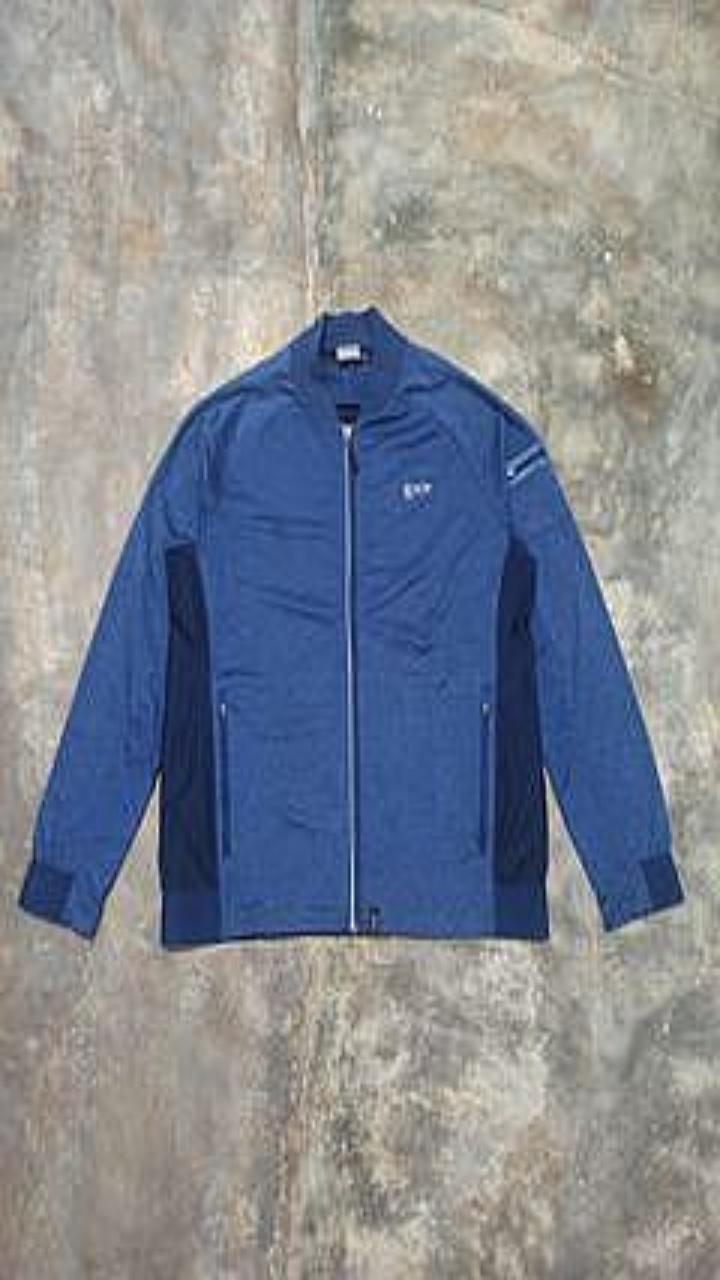Sports_Jacket: (20, 305, 682, 946)
